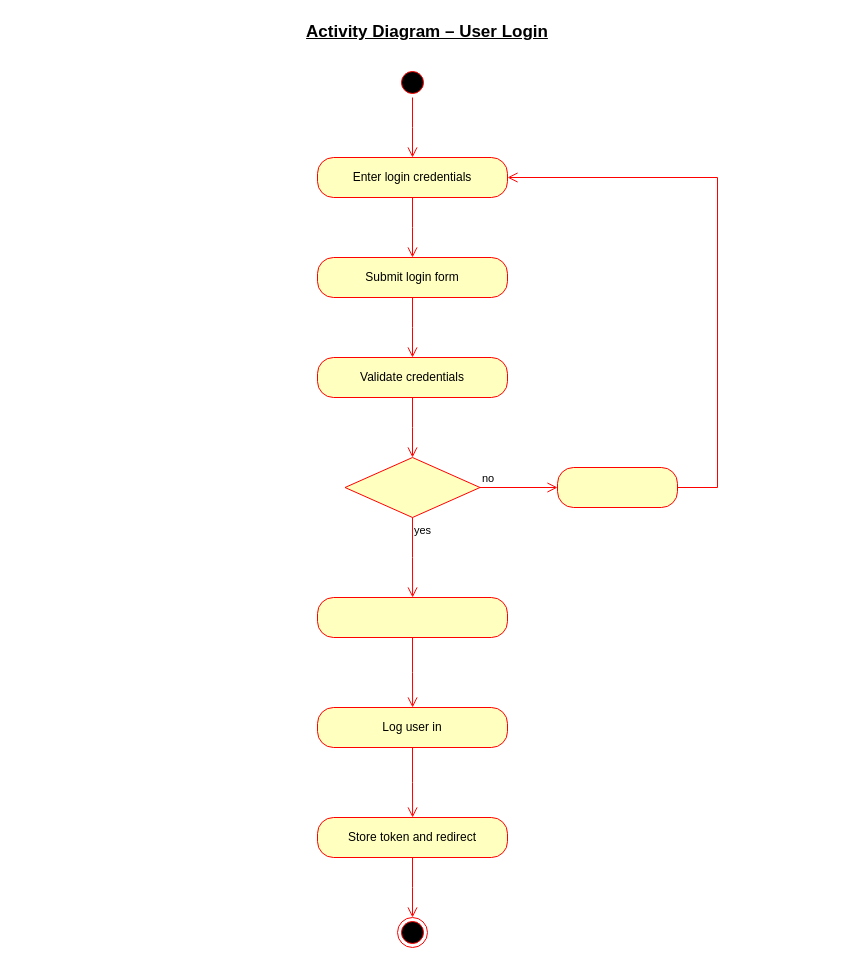
Some shapes in this 854 by 965 pixel diagram are drawn without their labels. Each missing label, with the centre of its shape:
Credentials valid?: [412,487]
Generate auth token: [412,617]
Show error Return to login form: [617,487]
